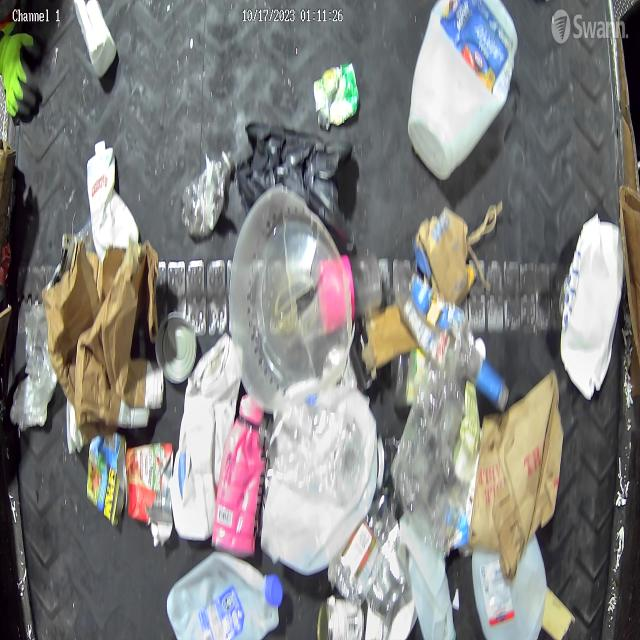can: (126, 439, 174, 525), (366, 520, 406, 618), (87, 434, 127, 528), (313, 62, 359, 129), (155, 312, 197, 382), (314, 597, 364, 639)
milk_jug: (264, 381, 377, 574), (408, 0, 519, 177), (171, 332, 243, 541), (561, 212, 622, 400), (166, 551, 283, 640), (472, 539, 546, 640), (399, 514, 456, 640)
plastic_bottle: (258, 405, 364, 503), (327, 486, 390, 594), (181, 149, 233, 237)
